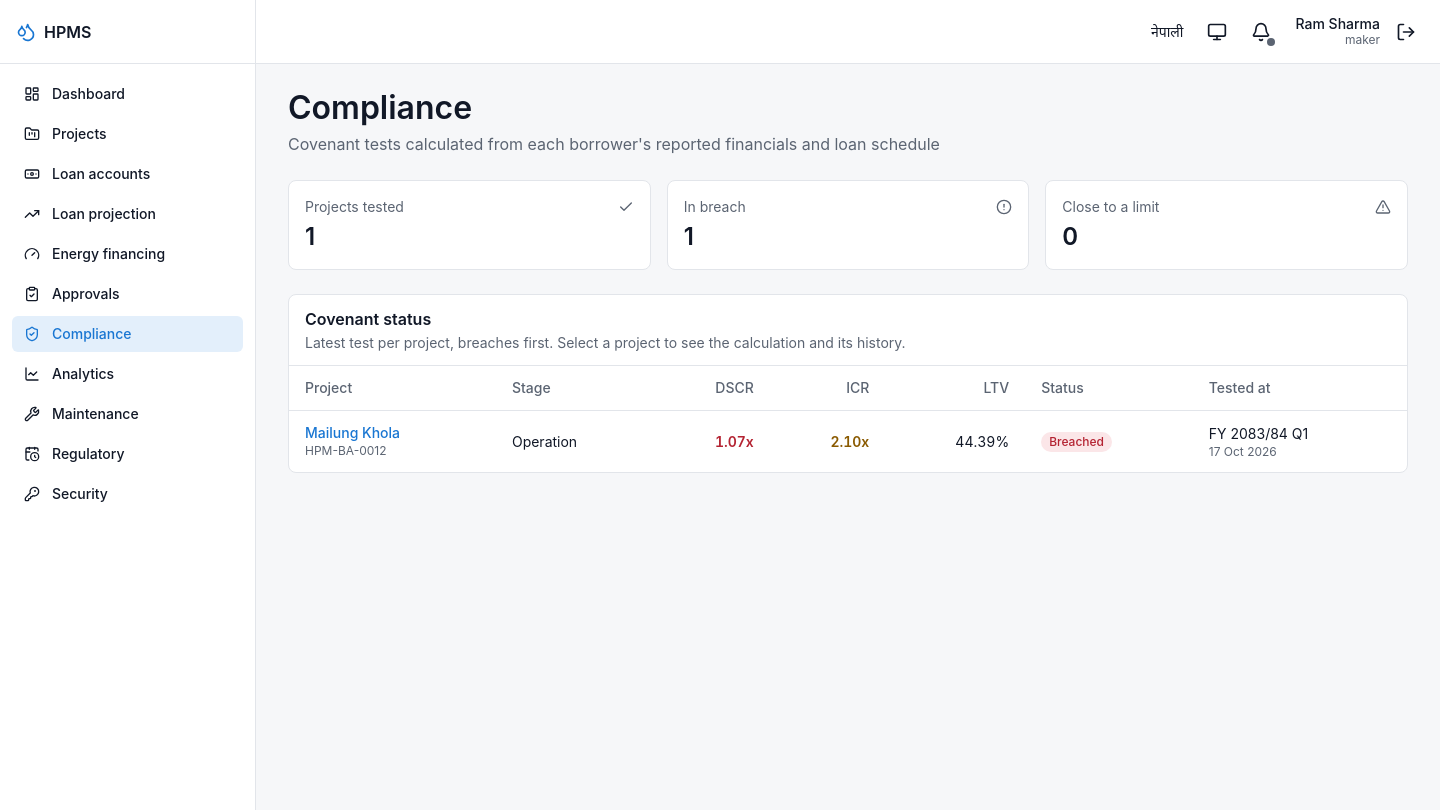
Test: CompliancePage › opens the working and history for a project
Step 1. Click the button "Mailung Khola HPM-BA-0012" → x=352, y=441, box 305,423 -> 400,459
(page scrolled)
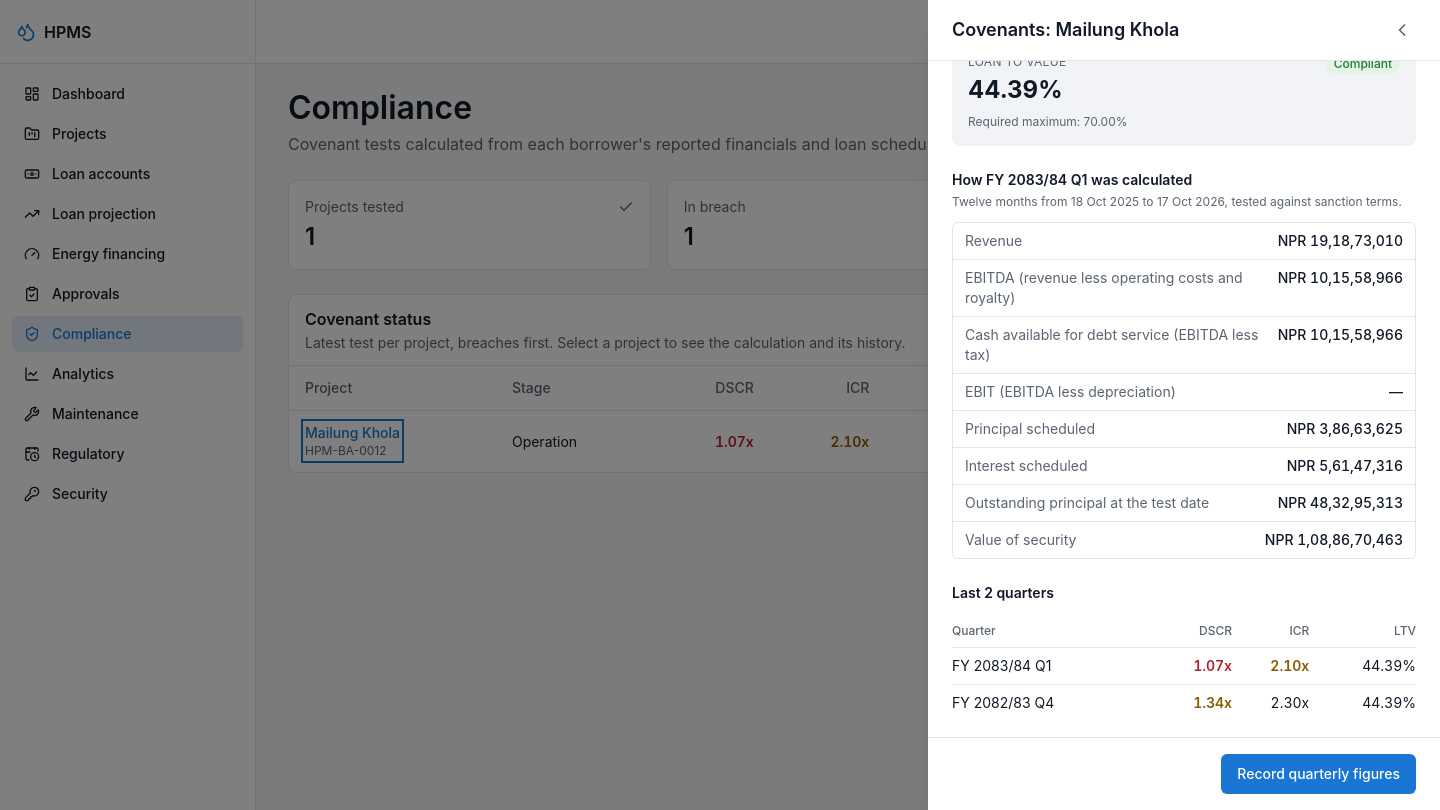
Expected: the heading "Covenants: Mailung Khola" is shown, 952,16 -> 1179,44
Expected: the heading "How FY 2083/84 Q1 was calculated" is shown, 952,171 -> 1192,188
Expected: the dialog shows "tested against sanction terms", 928,0 -> 1439,809
